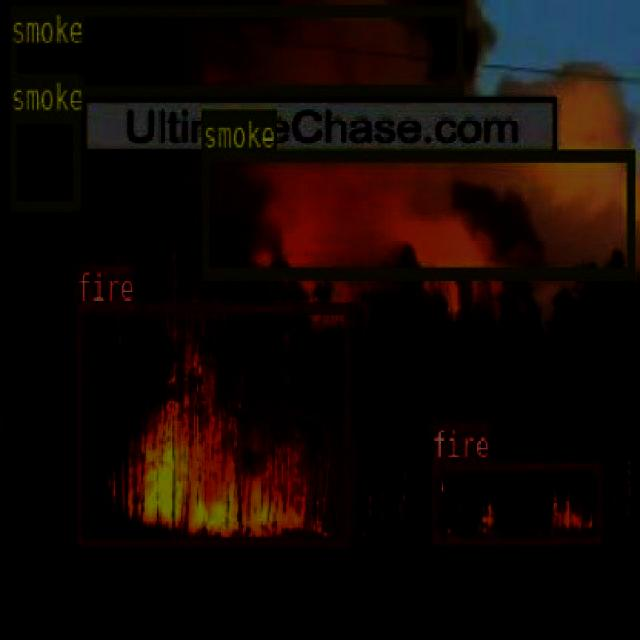fire: (74, 302, 351, 546), (429, 458, 600, 544)
smoke: (201, 147, 634, 276), (9, 2, 462, 93), (8, 110, 78, 210)
